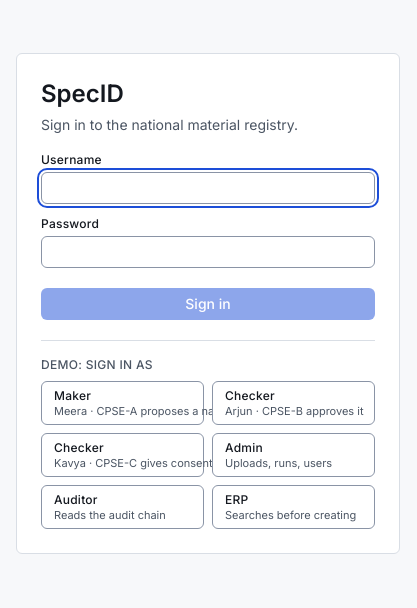
Scenario: demo sign-in and cloud footer (DEC-42) › shows one button per demo role when the API is in demo mode
The width and height of the screenshot is (417, 608).
Click the button "Maker Meera · CPSE-A proposes a national code": (122, 402) x1=41 y1=380 x2=204 y2=424
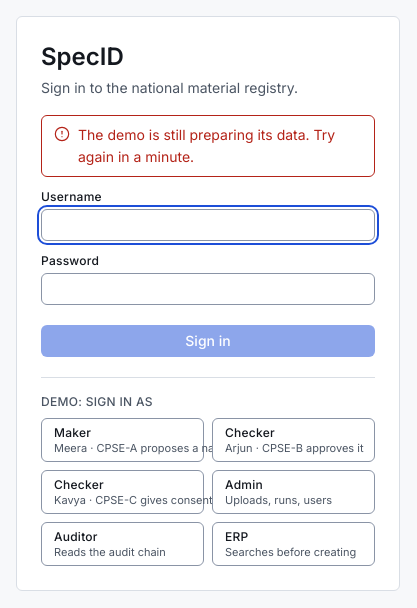
Check: the text "The demo is still preparing its data. Try again in a minute." is shown, box x1=78 y1=124 x2=362 y2=168
